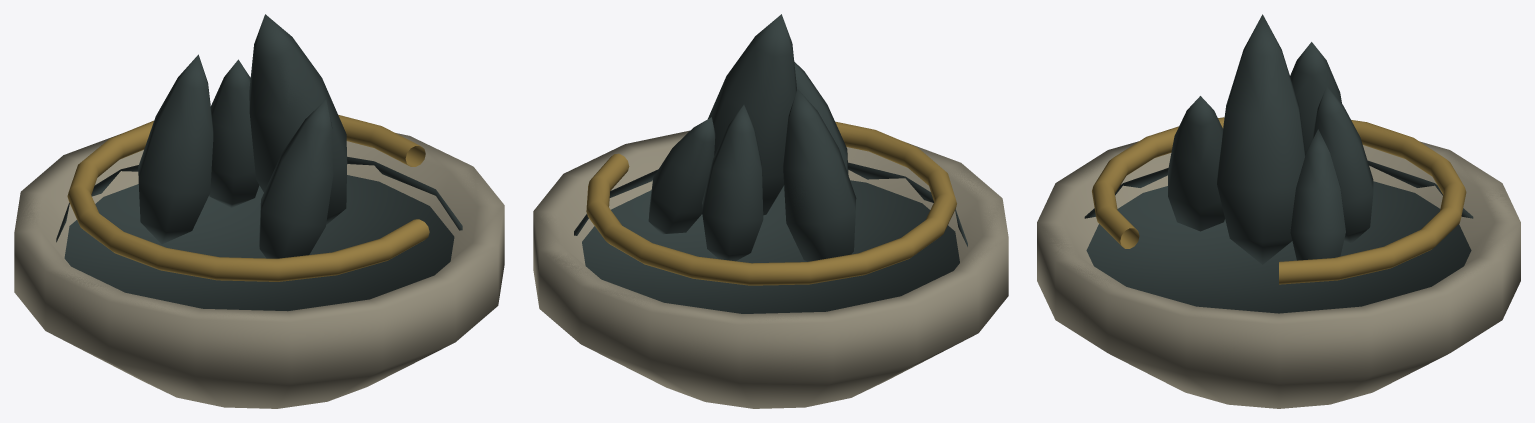
Rendered from bell_salt.obj.
The picture shows the model from 3 angles, left to right: view 1: azimuth 30°, elevation 25°; view 2: azimuth 150°, elevation 25°; view 3: azimuth 270°, elevation 25°; orthographic projection. The views are drawn at different scales.
Visible parts, largest first — view 1: A_Font.001_old_limestone, A_SaltBed.001_smoked_glass, A_BrokenHalo.001_ritual_gold, A_Shard_0.001_smoked_glass, A_Shard_1.001_smoked_glass, A_Shard_4.001_smoked_glass, A_Shard_2.001_smoked_glass; view 2: A_Font.001_old_limestone, A_SaltBed.001_smoked_glass, A_BrokenHalo.001_ritual_gold, A_Shard_0.001_smoked_glass, A_Shard_1.001_smoked_glass, A_Shard_2.001_smoked_glass, A_Shard_3.001_smoked_glass, A_Shard_4.001_smoked_glass; view 3: A_Font.001_old_limestone, A_SaltBed.001_smoked_glass, A_Shard_1.001_smoked_glass, A_BrokenHalo.001_ritual_gold, A_Shard_4.001_smoked_glass, A_Shard_3.001_smoked_glass, A_Shard_2.001_smoked_glass, A_Shard_0.001_smoked_glass.
Boxes of the visible parts, x1,y1,x2,y2 form: A_Font.001_old_limestone: (14, 133, 504, 408); A_SaltBed.001_smoked_glass: (56, 156, 462, 311); A_BrokenHalo.001_ritual_gold: (67, 115, 429, 281); A_Shard_0.001_smoked_glass: (138, 54, 213, 244); A_Shard_1.001_smoked_glass: (249, 14, 347, 224); A_Shard_4.001_smoked_glass: (259, 99, 333, 258); A_Shard_2.001_smoked_glass: (209, 59, 259, 207); A_Font.001_old_limestone: (533, 130, 1008, 408); A_SaltBed.001_smoked_glass: (574, 162, 967, 313); A_BrokenHalo.001_ritual_gold: (586, 121, 956, 285); A_Shard_0.001_smoked_glass: (783, 89, 856, 261); A_Shard_1.001_smoked_glass: (708, 14, 796, 215); A_Shard_2.001_smoked_glass: (702, 105, 763, 261); A_Shard_3.001_smoked_glass: (648, 117, 715, 234); A_Shard_4.001_smoked_glass: (794, 62, 848, 175); A_Font.001_old_limestone: (1037, 141, 1520, 408); A_SaltBed.001_smoked_glass: (1084, 160, 1473, 313); A_Shard_1.001_smoked_glass: (1217, 14, 1305, 264); A_BrokenHalo.001_ritual_gold: (1092, 117, 1466, 284); A_Shard_4.001_smoked_glass: (1168, 96, 1224, 231); A_Shard_3.001_smoked_glass: (1290, 129, 1345, 283); A_Shard_2.001_smoked_glass: (1312, 86, 1373, 243); A_Shard_0.001_smoked_glass: (1290, 42, 1341, 153).
Size of the model in its own units: 1.48 by 1.14 by 1.48.
